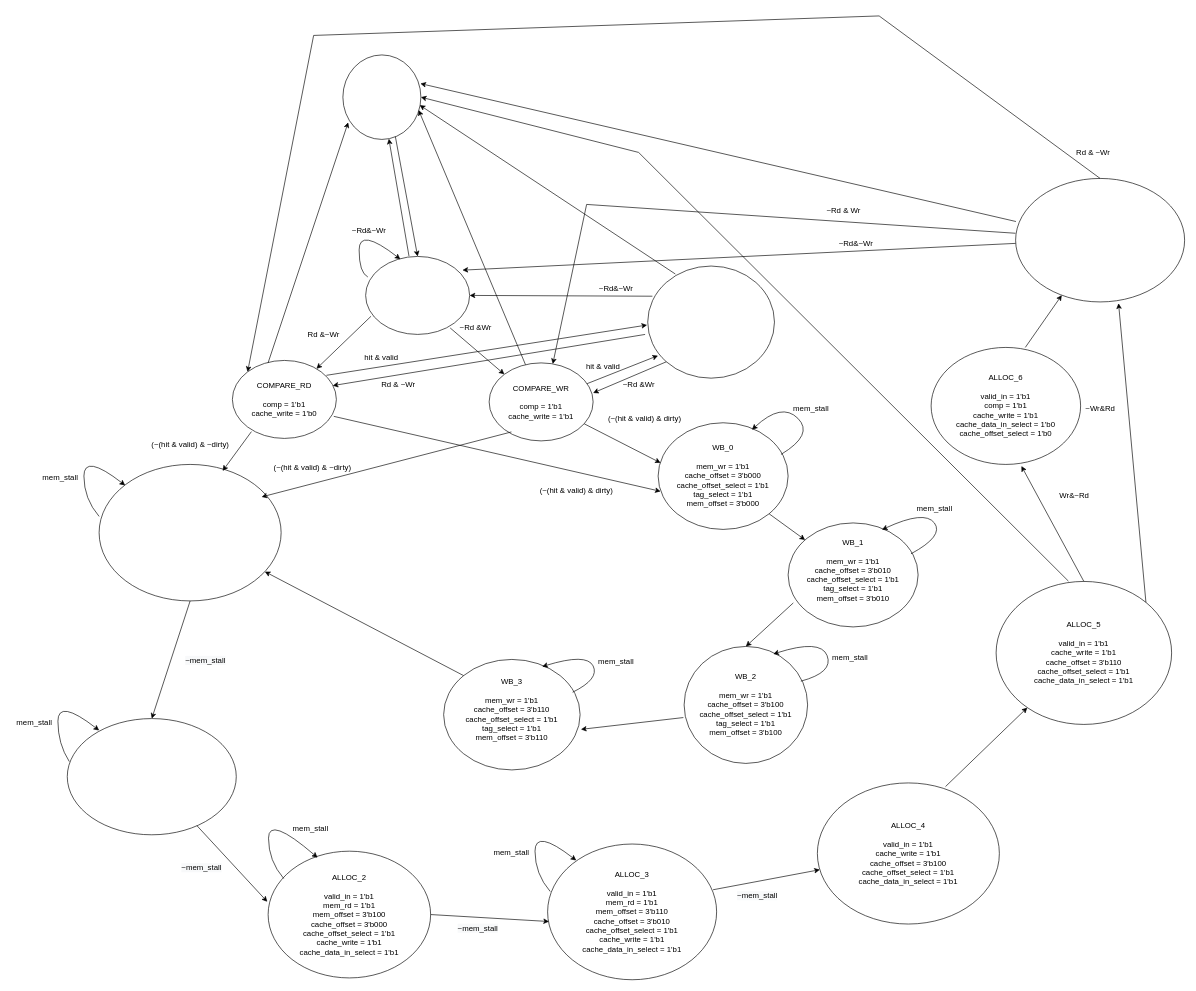
Some shapes in this 1196 by 991 pixel diagram are drawn without their labels. Here are the shapes that lost their labels. From the top down, the centre of each, then its label:
At point (381, 96): "ERROR err = 1'b1".
At point (1100, 240): "MISS_DONE done = 1'b1 stall_out = 1'b0".
At point (417, 295): "IDLE stall_out = 1'b0".
At point (710, 321): "HIT_DONE done = 1'b1 cache_hit = 1'b1 stall_out = 1'b0".
At point (189, 532): "ALLOC_0 mem_rd = 1'b1 mem_offset = 3'b000".
At point (151, 776): "ALLOC_1 mem_rd = 1'b1 mem_offset = 3'b010".
